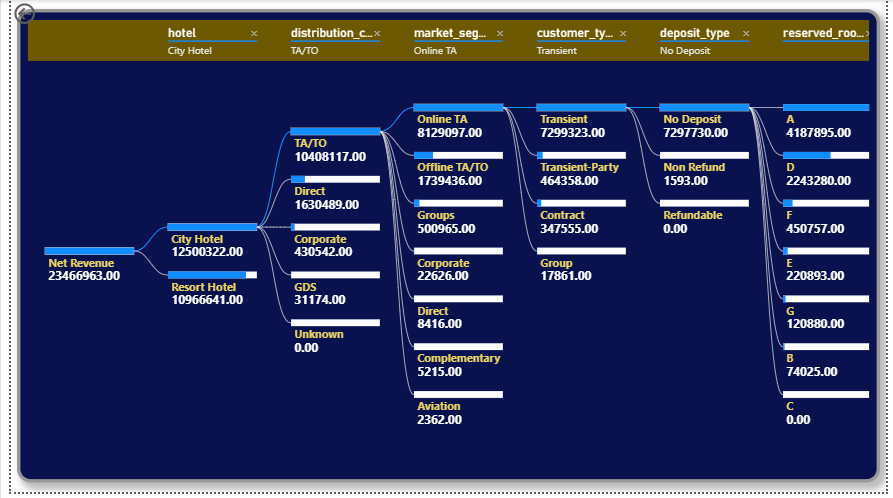

Layout of this report page (visuals, bound fields, positions):
{"tool":"powerbi","page":{"name":"Revenue Analysis","canvas":[1280,720],"ordinal":4},"visuals":[{"type":"decompositionTreeVisual","title":"Total Guests by Customer Type","fields":{"Analyze":["Sum(HotelBookings_Clean.net_revenue)"],"ExplainBy":["HotelBookings_Clean.hotel","HotelBookings_Clean.distribution_channel","HotelBookings_Clean.market_segment","HotelBookings_Clean.customer_type","HotelBookings_Clean.deposit_type","HotelBookings_Clean.reserved_room_type"]},"box":[8.3,13.3,1263.3,693.3],"z":0},{"type":"actionButton","box":[0,0,100,40],"z":1000}]}

Visuals, with their boxes in screenshot pixels (x1, y1, x2, y2), scaled from the page's 1280x720 canvas onto the 893x498 screenshot:
"Total Guests by Customer Type" decompositionTreeVisual: <region>6, 9, 887, 489</region>
actionButton: <region>0, 0, 70, 28</region>
